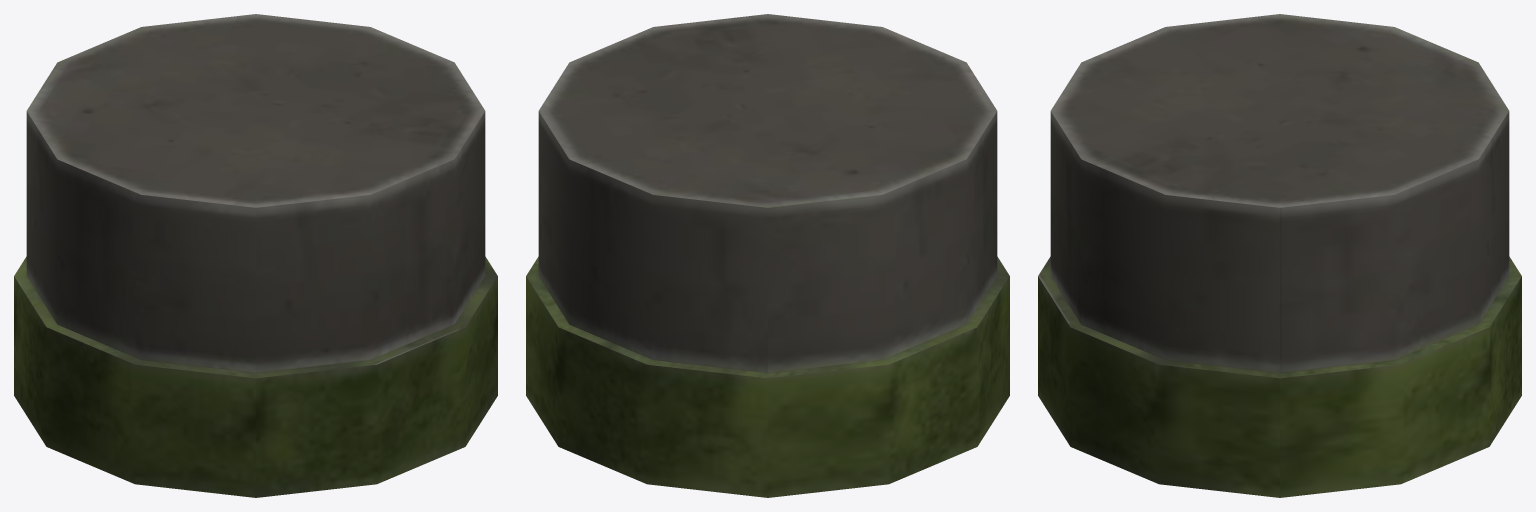
The model's file is pier_collar.glb.
3 views of the same model, side by side, from view 1: azimuth 30°, elevation 25°; view 2: azimuth 150°, elevation 25°; view 3: azimuth 270°, elevation 25° (orthographic).
Parts seen in each view (by area): view 1: te_pier_collar; view 2: te_pier_collar; view 3: te_pier_collar.
Boxes of the visible parts, x1,y1,x2,y2 form: te_pier_collar: [14, 14, 497, 497]; te_pier_collar: [526, 14, 1009, 497]; te_pier_collar: [1038, 14, 1521, 497].
Bounding box in the file's own units: 0.154 × 0.1 × 0.154.
1 material, 1 textured.
